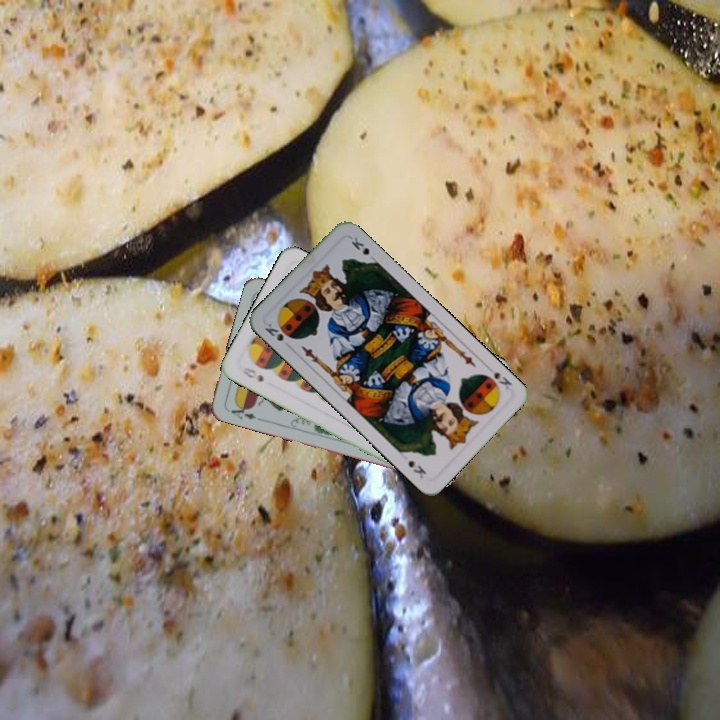EA: (223, 400, 258, 422)
S8: (238, 363, 266, 385)
SK: (260, 319, 296, 344), (490, 367, 515, 394)
